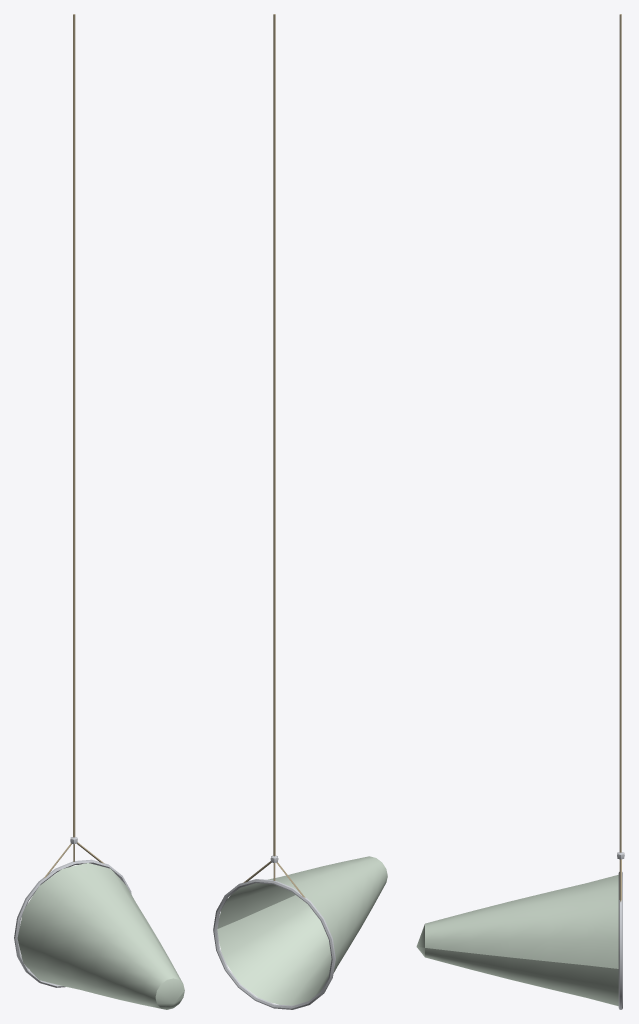
Rendered from boat_net.glb.
The picture shows the model from 3 angles, left to right: view 1: azimuth 30°, elevation 25°; view 2: azimuth 150°, elevation 25°; view 3: azimuth 270°, elevation 25°; orthographic projection. The views are drawn at different scales.
Parts seen in each view (by area): view 1: BoatNet; view 2: BoatNet; view 3: BoatNet.
Part boxes in pixels (x1,y1,x2,y2): BoatNet: [14, 14, 184, 1009]; BoatNet: [213, 14, 387, 1009]; BoatNet: [416, 14, 624, 1009].
Bounding box in the file's own units: 1.64 × 12.82 × 2.44.
